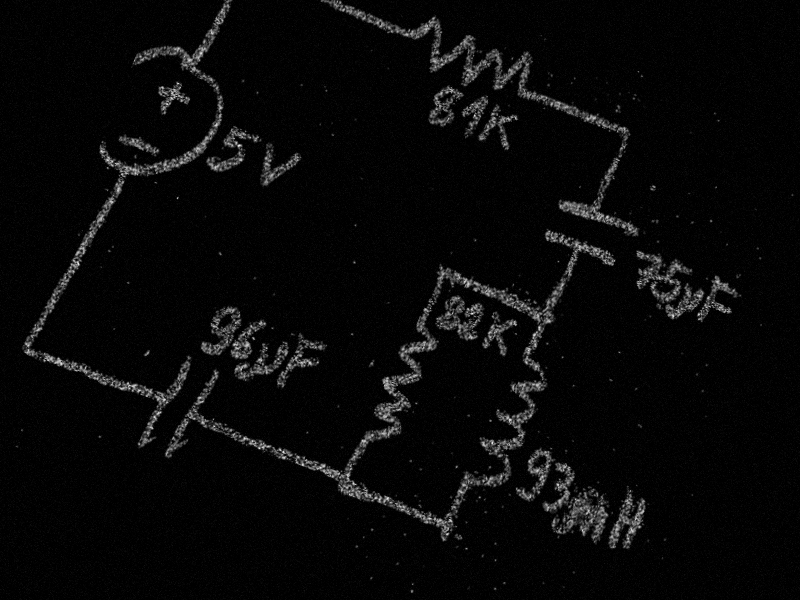1: (449, 86, 494, 145)
2: (454, 298, 492, 346)
3: (536, 458, 581, 518)
5: (202, 117, 265, 186), (651, 252, 696, 312)
6: (226, 310, 269, 366)
7: (620, 244, 671, 300)
8: (421, 79, 468, 134), (430, 289, 470, 337)
9: (192, 297, 248, 363), (510, 442, 558, 506)
F: (273, 329, 330, 399), (694, 273, 744, 335)
H: (601, 484, 655, 557)
V: (244, 136, 306, 199)
k: (474, 99, 527, 159), (476, 309, 521, 360)
m: (556, 491, 614, 549)
u: (239, 332, 292, 392), (671, 282, 705, 325)
